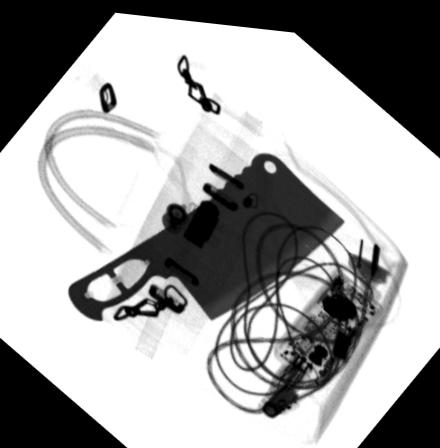Knife: (65, 144, 346, 320)
